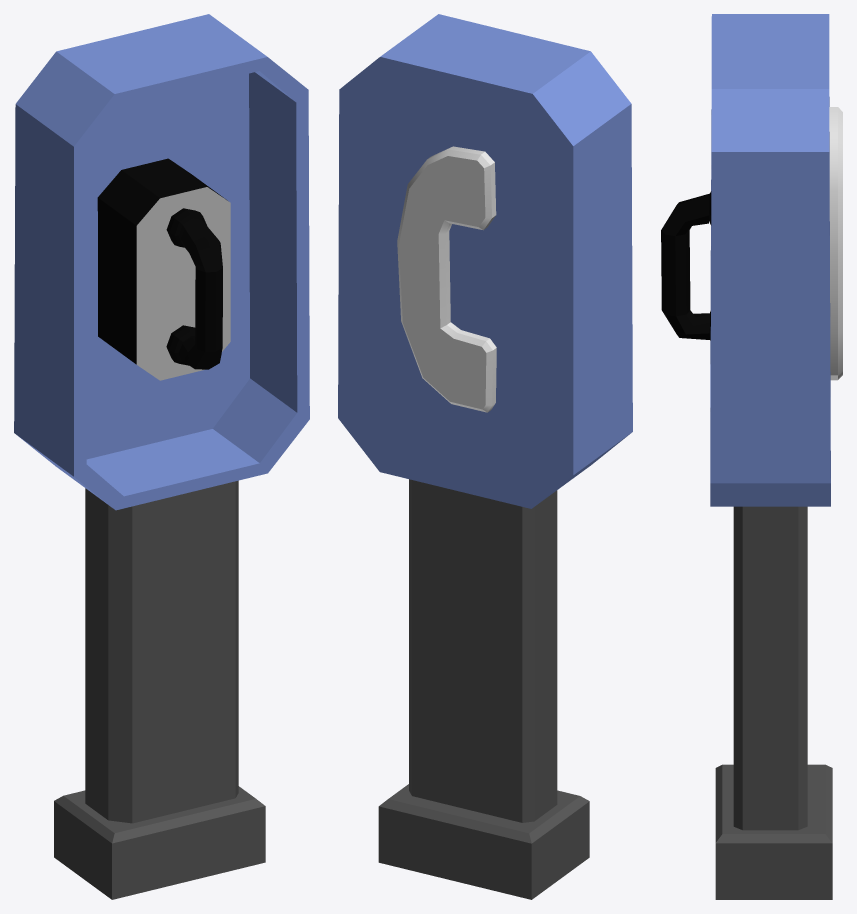
The model's file is PhoneBooth.fbx.
3 renders of one model, left to right at view 1: azimuth 30°, elevation 25°; view 2: azimuth 150°, elevation 25°; view 3: azimuth 270°, elevation 25°, orthographic.
Visible parts, largest first — view 1: polySurface38; view 2: polySurface38; view 3: polySurface38.
Part boxes in pixels (box(x1,y1,x2,y2)): polySurface38: box(14, 14, 309, 899); polySurface38: box(338, 14, 632, 899); polySurface38: box(661, 14, 842, 899).
Size of the model in its own units: 0.5551 by 1.82 by 0.369.
